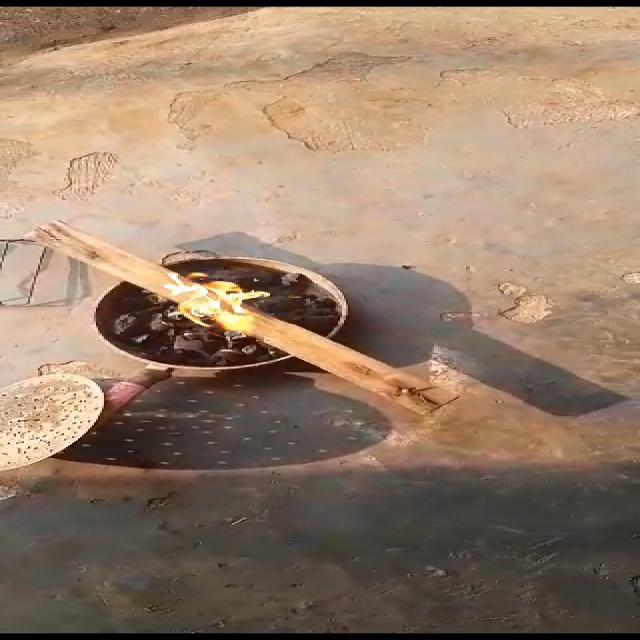Fire: (152, 260, 285, 346)
